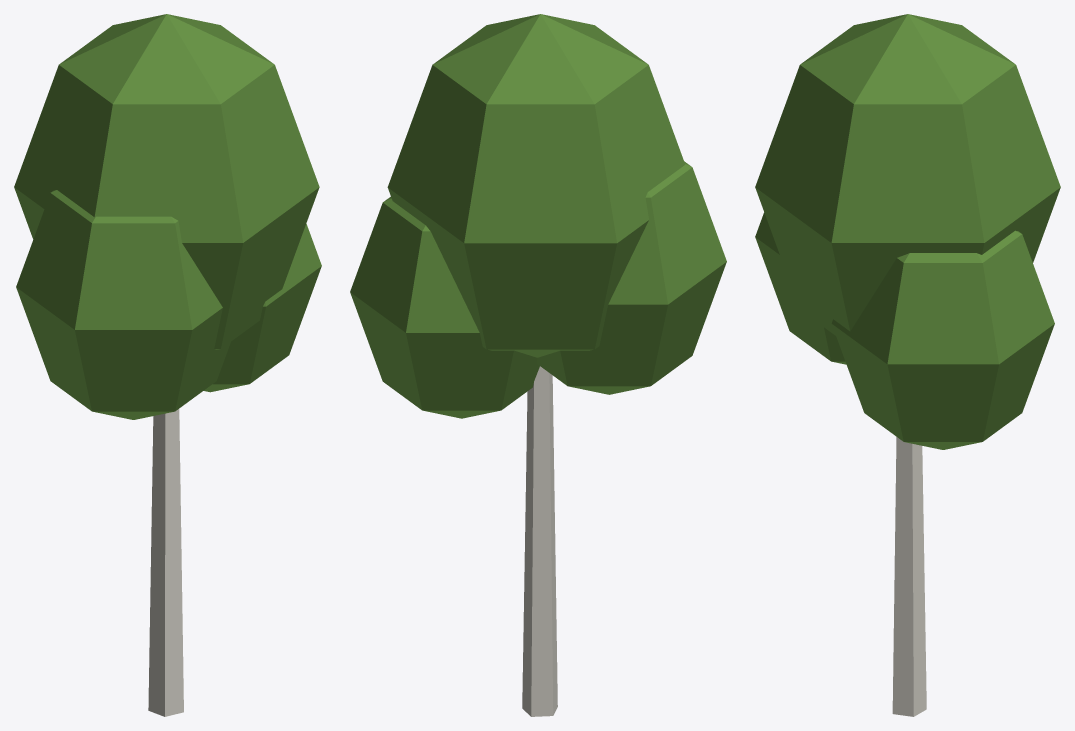
File: birch_low.glb
3 views of the same model, side by side, from view 1: azimuth 30°, elevation 25°; view 2: azimuth 150°, elevation 25°; view 3: azimuth 270°, elevation 25° (orthographic).
Parts seen in each view (by area): view 1: birch_low; view 2: birch_low; view 3: birch_low.
Boxes of the visible parts, x1,y1,x2,y2 form: birch_low: (14,14,321,716); birch_low: (350,14,726,716); birch_low: (755,14,1060,716).
Bounding box in the file's own units: 2.79 × 6.53 × 2.6.
